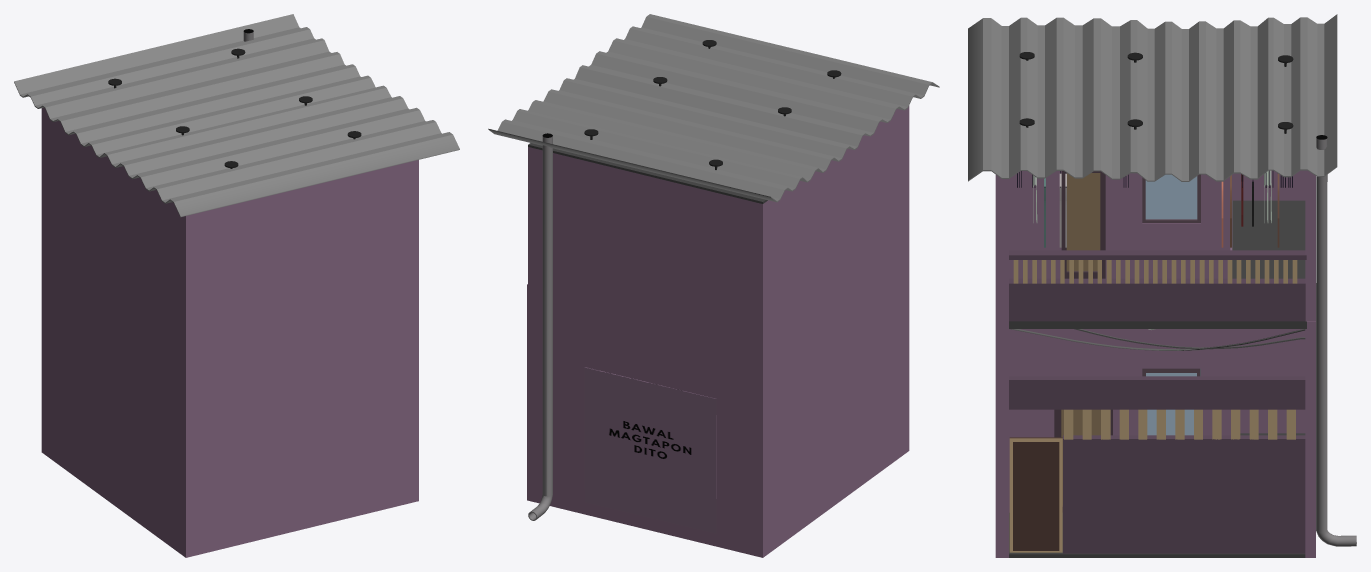
Rendered from BAHAY 3.fbx.
3 views of the same model, side by side, from view 1: azimuth 30°, elevation 25°; view 2: azimuth 150°, elevation 25°; view 3: azimuth 270°, elevation 25° (orthographic). The views are drawn at different scales.
Visible parts, largest first — view 1: BAHAY MISMO, Bubong, Pako.001; view 2: BAHAY MISMO, Bubong, Bawal, Tubo, Pako.001; view 3: BAHAY MISMO, Bubong, SmallGate, Tubo, Pinto.001, Sampayan.001, Wire, Bintana, Pako.001.
Part boxes in pixels (x1,y1,x2,y2): BAHAY MISMO: (41, 107, 418, 557); Bubong: (14, 14, 459, 217); Pako.001: (108, 48, 361, 168); BAHAY MISMO: (527, 106, 909, 557); Bubong: (488, 14, 939, 202); Bawal: (584, 367, 716, 533); Tubo: (528, 133, 552, 520); Pako.001: (584, 40, 841, 169); BAHAY MISMO: (995, 170, 1315, 557); Bubong: (968, 14, 1337, 181); SmallGate: (1009, 437, 1062, 552); Tubo: (1316, 135, 1356, 546); Pinto.001: (1054, 171, 1112, 512); Sampayan.001: (1017, 170, 1292, 247); Wire: (1010, 329, 1305, 350); Bintana: (1142, 174, 1200, 376); Pako.001: (1019, 52, 1293, 133).
Size of the model in its own units: 996 by 1259 by 1082.
Materials: 27 (1 with a texture image).
